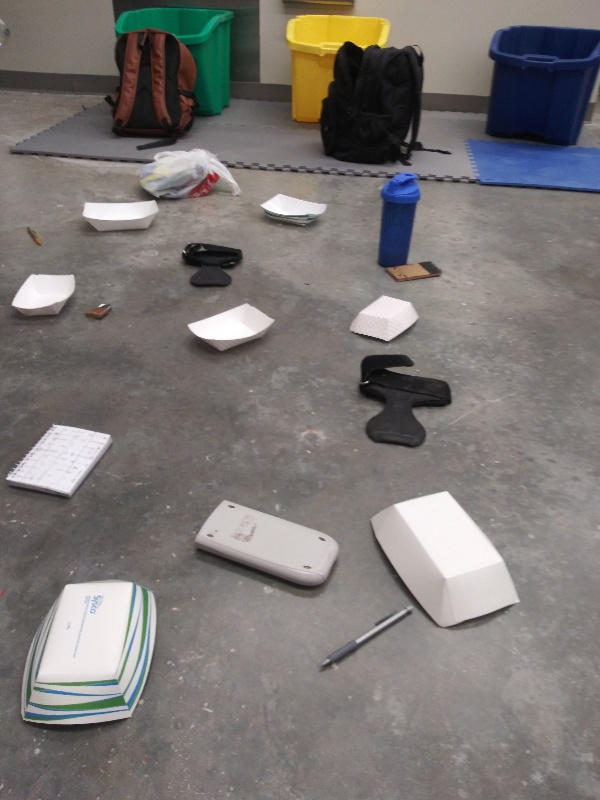plate: (366, 488, 528, 640), (17, 578, 158, 735), (186, 300, 277, 360), (345, 292, 425, 345), (8, 268, 81, 326), (81, 194, 163, 239), (255, 188, 330, 228)
